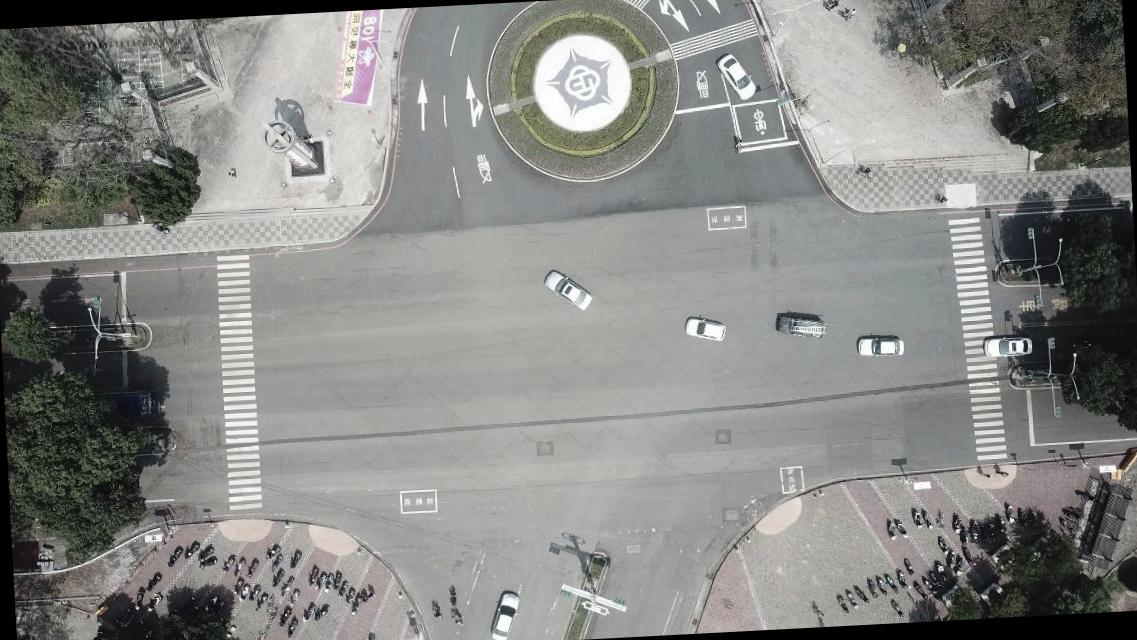vehicle: (542, 266, 594, 314), (715, 49, 758, 103), (485, 591, 524, 639), (774, 314, 827, 344), (982, 334, 1034, 360), (682, 316, 726, 343), (856, 336, 906, 358)
